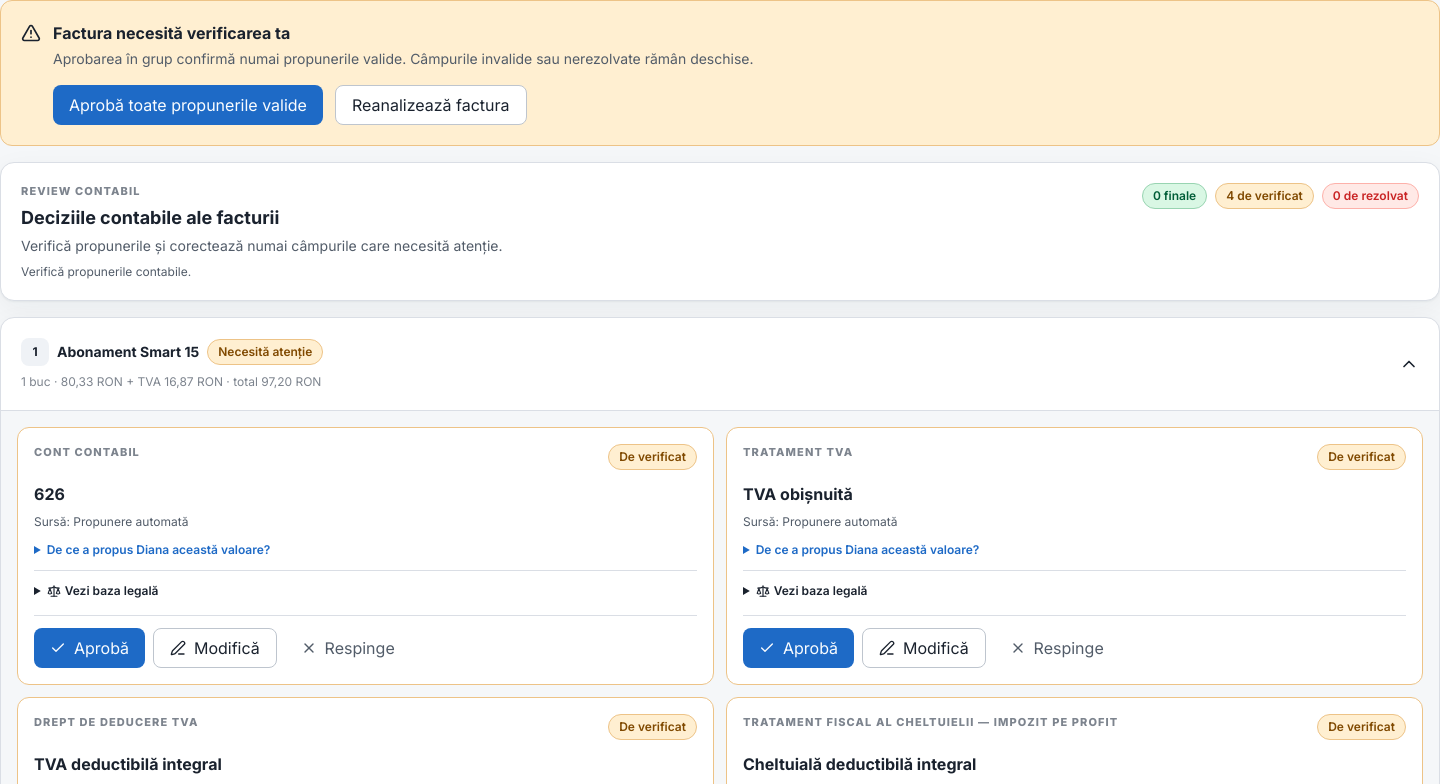
Test: review contabil V2 unificat › marchează explicit citarea neverificată
What coordinates should you click on to do the following:
click the heading "Vezi baza legală" below "TVA obișnuită"
I would click on:
 (812, 590)
Its box is [756,582,868,598].
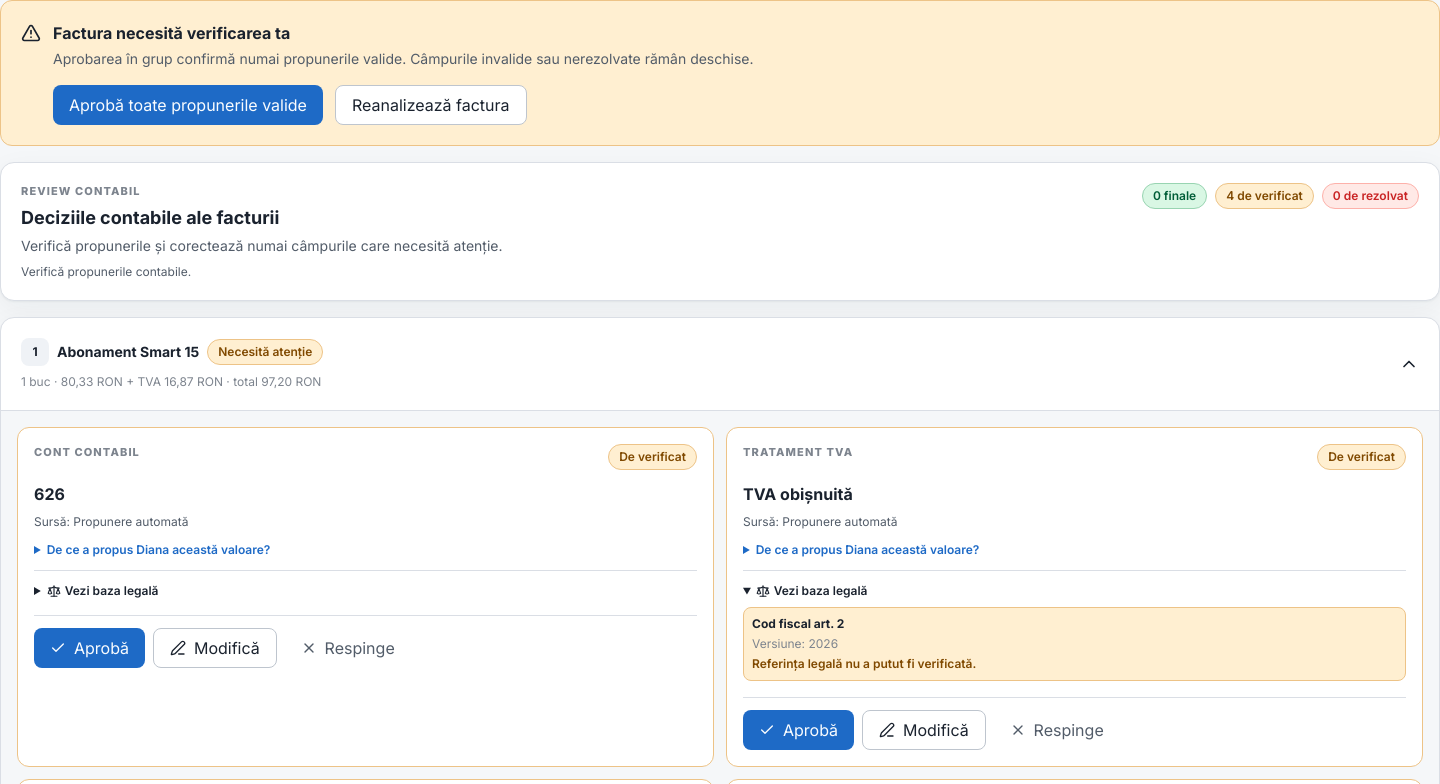
Check: the text "Referința legală nu a putut fi verificată." is shown, box [752,656,976,670]
